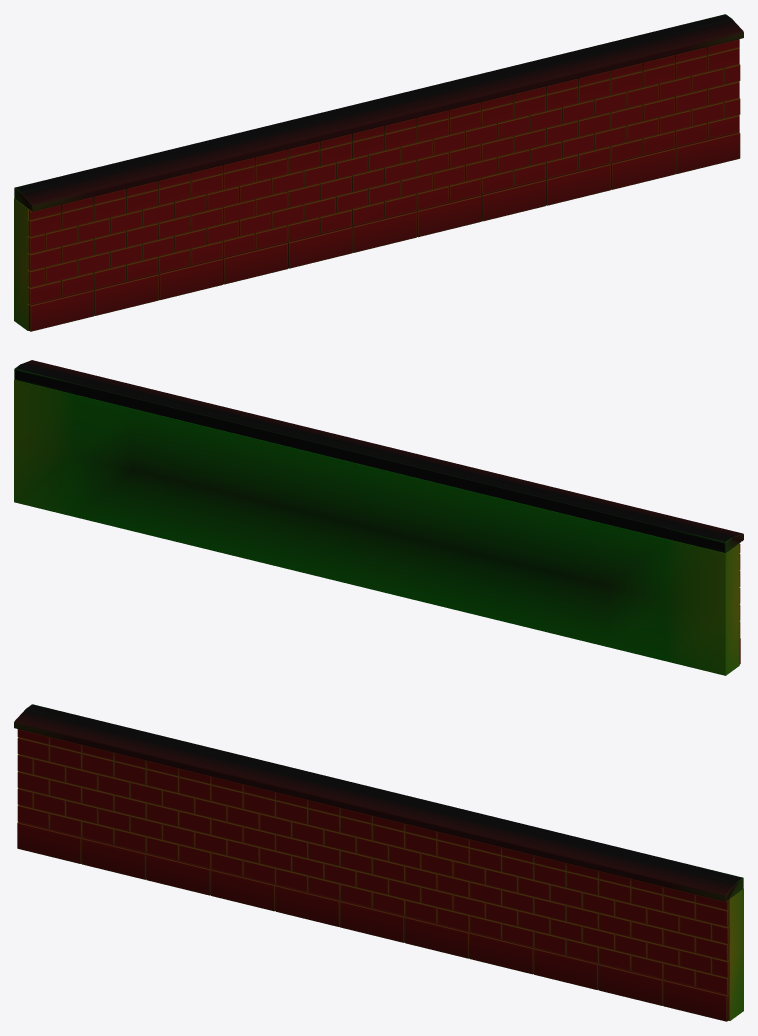
The model's file is stallriser_tile.glb.
The picture shows the model from 3 angles, top to bottom: view 1: azimuth 30°, elevation 25°; view 2: azimuth 150°, elevation 25°; view 3: azimuth 330°, elevation 25°; orthographic projection.
Parts seen in each view (by area): view 1: stallriser_tile; view 2: stallriser_tile; view 3: stallriser_tile.
Boxes of the visible parts, <box> form: stallriser_tile: <box>14,14,743,331</box>; stallriser_tile: <box>14,360,743,675</box>; stallriser_tile: <box>14,704,743,1021</box>.
Size of the model in its own units: 3.35 by 0.6 by 0.15.
